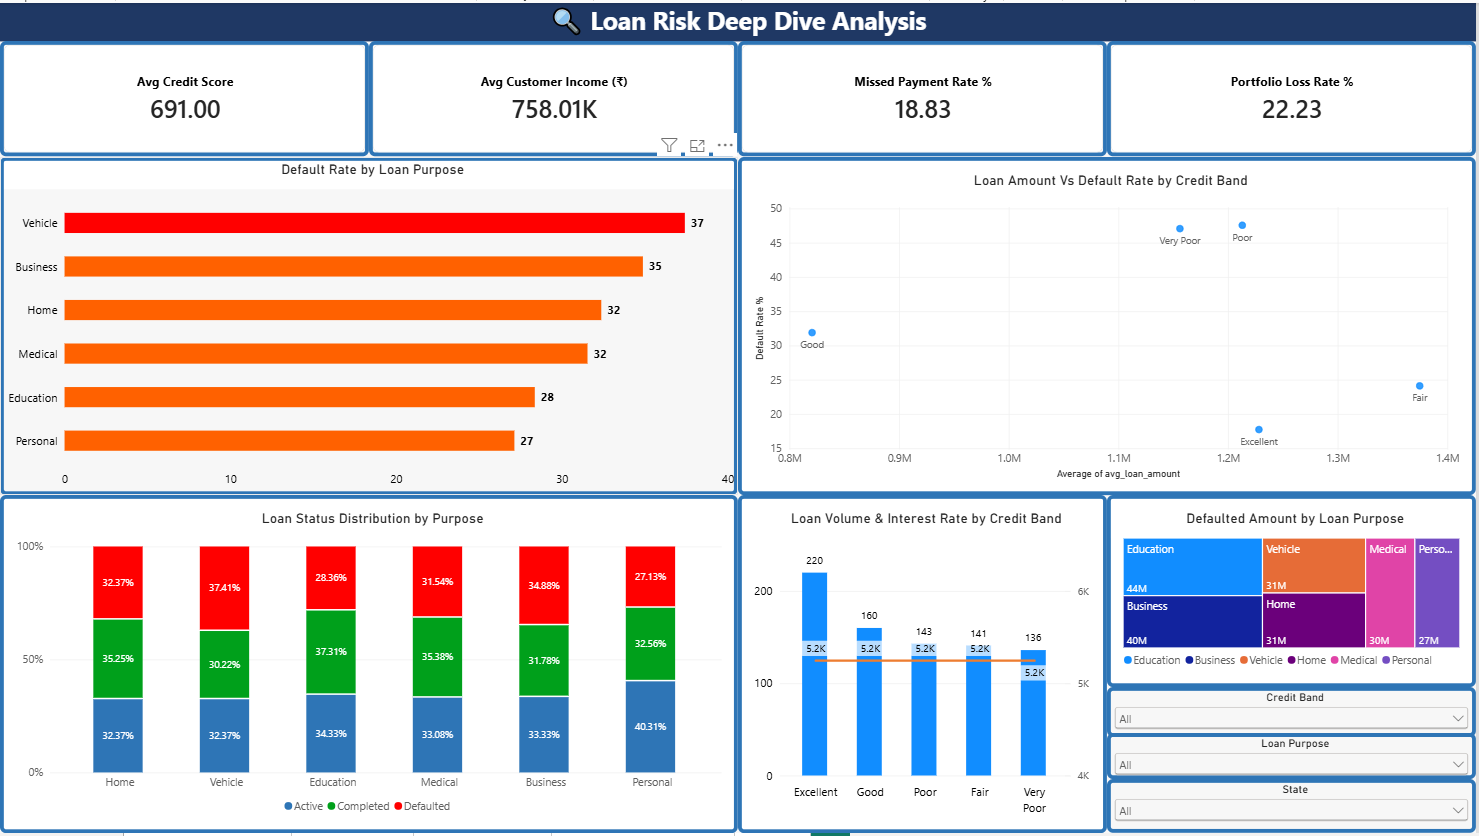

The page's visual inventory and layout, read from the dashboard file:
{"tool":"powerbi","page":{"name":"Risk Deep Dive","canvas":[1920,1080],"ordinal":1},"visuals":[{"type":"textbox","box":[0,0,1920.6,50],"z":0},{"type":"cardVisual","fields":{"Data":["bank_loan vw_customer_risk.Avg Credit Score"]},"box":[0,50,480,150],"z":1},{"type":"cardVisual","fields":{"Data":["bank_loan vw_customer_risk.Avg Income"]},"box":[480.1,50,480,150],"z":2},{"type":"cardVisual","fields":{"Data":["bank_loan vw_customer_risk.Missed Payment Rate %"]},"box":[960.3,50,480,150],"z":3},{"type":"cardVisual","fields":{"Data":["bank_loan vw_customer_risk.Loss Rate %"]},"box":[1440.4,50,480,150],"z":4},{"type":"clusteredBarChart","title":"Default Rate  by Loan Purpose","fields":{"Category":["bank_loan vw_loan_portfolio.loan_purpose"],"Y":["bank_loan vw_customer_risk.Default Rate %"]},"box":[0,200,960,440],"z":5},{"type":"scatterChart","title":"Loan Amount Vs Default Rate by Credit Band","fields":{"Category":["bank_loan vw_customer_risk.credit_band"],"X":["Avg(bank_loan vw_customer_risk.avg_loan_amount)"],"Y":["bank_loan vw_customer_risk.Default Rate %"]},"box":[960.3,200,960,440],"z":6},{"type":"hundredPercentStackedColumnChart","title":"Loan Status Distribution by Purpose","fields":{"Category":["bank_loan vw_loan_portfolio.loan_purpose"],"Series":["bank_loan vw_loan_portfolio.loan_status"],"Y":["bank_loan vw_customer_risk.Total Loans"]},"box":[0,640.2,960,440],"z":7},{"type":"lineClusteredColumnComboChart","title":"Loan Volume & Interest Rate by Credit Band","fields":{"Category":["bank_loan vw_loan_portfolio.credit_band"],"Y":["bank_loan vw_customer_risk.Total Loans"],"Y2":["Sum(bank_loan vw_customer_risk.avg_interest_rate)"]},"box":[960,640,480,440],"z":8},{"type":"treemap","title":"Defaulted Amount by Loan Purpose","fields":{"Group":["bank_loan vw_loan_portfolio.loan_purpose"],"Values":["bank_loan vw_customer_risk.Total Defaulted Amount"]},"box":[1440,640,480,250],"z":9},{"type":"slicer","title":"Credit Band","fields":{"Values":["bank_loan vw_customer_risk.credit_band"]},"box":[1440,890,480,65],"z":10},{"type":"slicer","title":"Loan Purpose","fields":{"Values":["bank_loan vw_loan_portfolio.loan_purpose"]},"box":[1440.4,950,480.1,60],"z":11},{"type":"slicer","title":"State","fields":{"Values":["bank_loan vw_loan_portfolio.state"]},"box":[1440.4,1010,480,70],"z":12}]}

Visuals, with their boxes in screenshot pixels (x1, y1, x2, y2), scaled from the page's 1920x1080 canvas onto the 1479x836 screenshot:
textbox: 0:0:1478:39
cardVisual - bank_loan vw_customer_risk.Avg Credit Score: 0:39:370:155
cardVisual - bank_loan vw_customer_risk.Avg Income: 370:39:740:155
cardVisual - bank_loan vw_customer_risk.Missed Payment Rate %: 740:39:1109:155
cardVisual - bank_loan vw_customer_risk.Loss Rate %: 1110:39:1478:155
"Default Rate  by Loan Purpose" clusteredBarChart: 0:155:740:495
"Loan Amount Vs Default Rate by Credit Band" scatterChart: 740:155:1478:495
"Loan Status Distribution by Purpose" hundredPercentStackedColumnChart: 0:496:740:835
"Loan Volume & Interest Rate by Credit Band" lineClusteredColumnComboChart: 740:495:1109:835
"Defaulted Amount by Loan Purpose" treemap: 1109:495:1478:689
"Credit Band" slicer: 1109:689:1478:739
"Loan Purpose" slicer: 1110:735:1478:782
"State" slicer: 1110:782:1478:835
